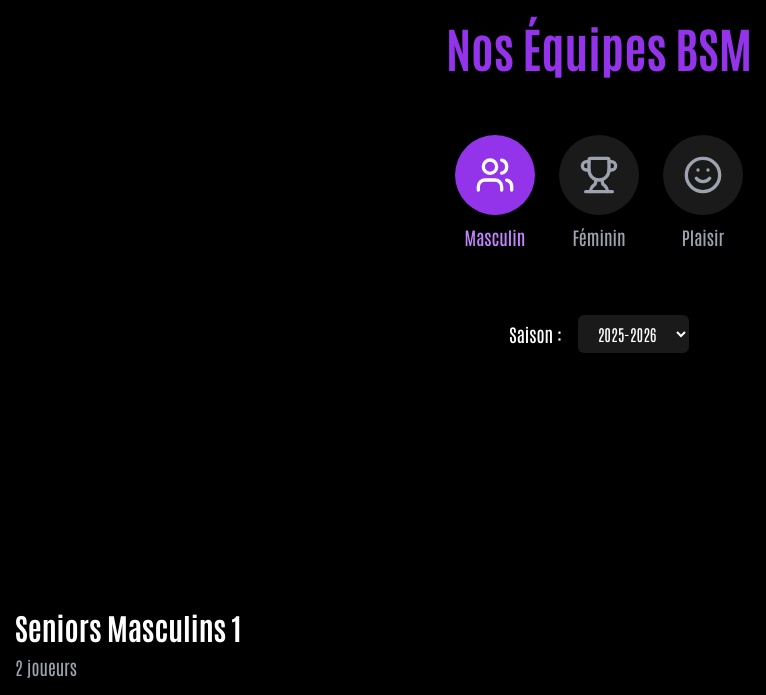
Test: TeamView — filteredTeams › shows no cards when a category has no teams
This screenshot has width=766, height=695.
Click the button with class "category-button" showing "Plaisir".
click(703, 193)  # box [663,135,743,251]
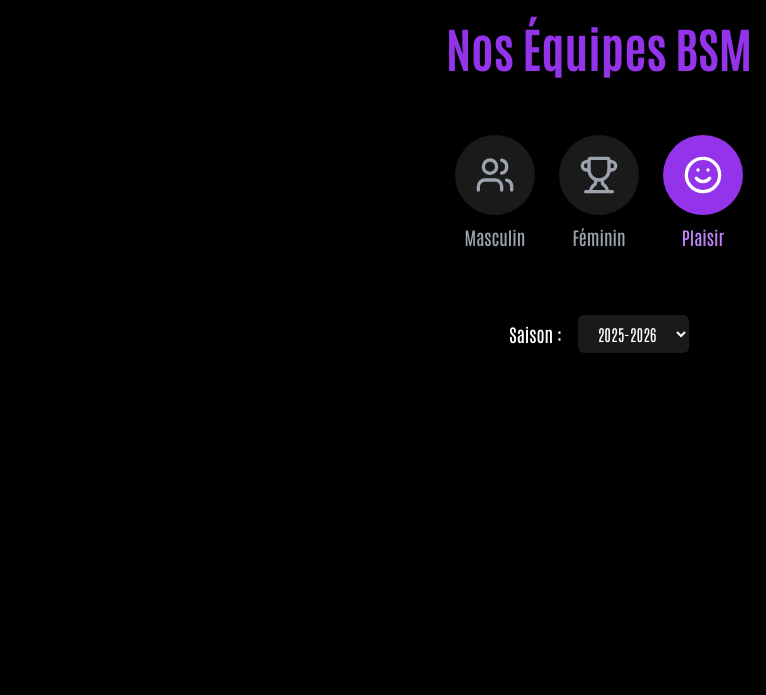
Check: no list items with class "team-card" are shown
